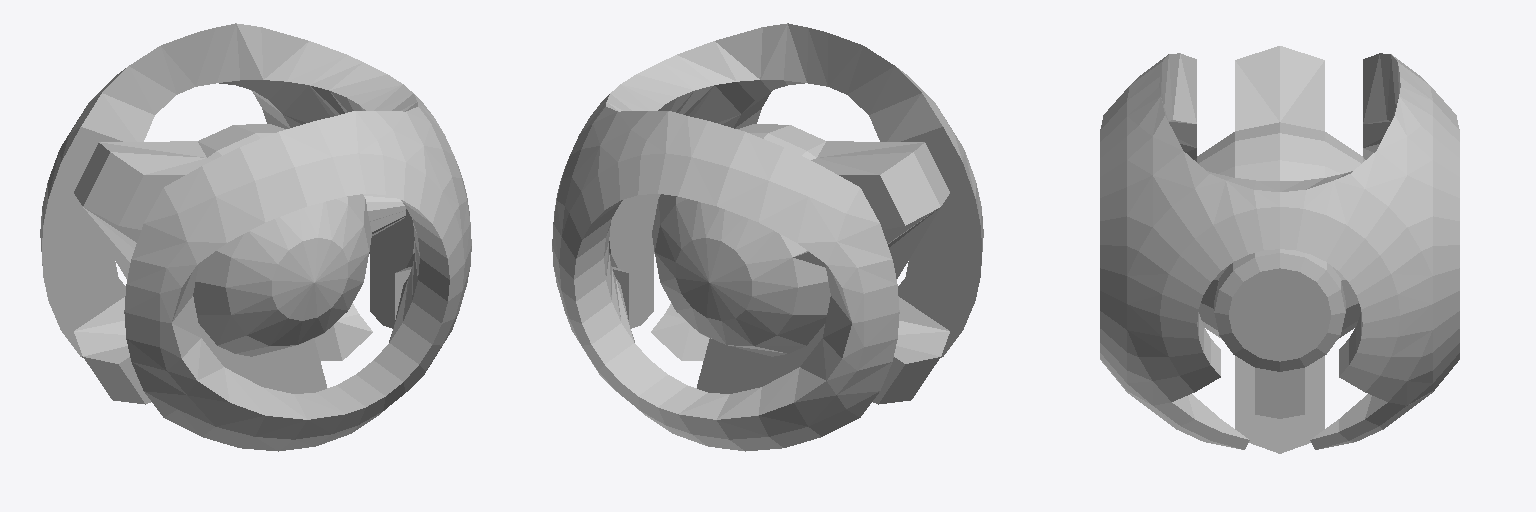
Rendered from Guilty Spark.obj.
The picture shows the model from 3 angles: view 1: azimuth 30°, elevation 25°; view 2: azimuth 150°, elevation 25°; view 3: azimuth 270°, elevation 25°; orthographic projection.
Visible parts, largest first — view 1: __unnamed, _monitor_tendril; view 2: __unnamed, _monitor_tendril; view 3: __unnamed.
Part boxes in pixels (left/top/right/bottom): __unnamed: left=40, top=23, right=471, bottom=451; _monitor_tendril: left=83, top=194, right=405, bottom=278; __unnamed: left=552, top=23, right=983, bottom=451; _monitor_tendril: left=793, top=207, right=940, bottom=278; __unnamed: left=1100, top=46, right=1459, bottom=453.
Size of the model in its own units: 18.48 by 18.3 by 16.63.